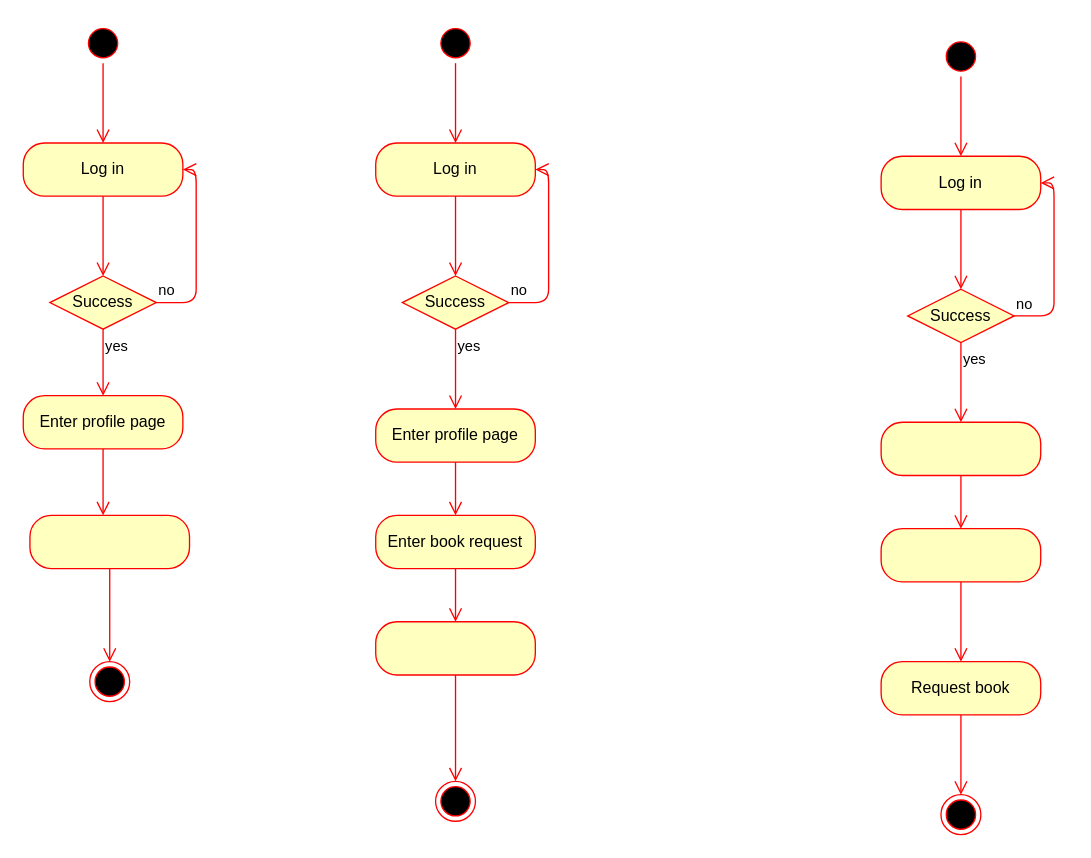
This 1091x858 diagram has some shape labels left out. The shapes that lost their labels are listed below. From the top down, each one's centre as x and y in pixels, then its label:
[960,448]: View books
[109,541]: Edit details
[960,554]: Select book
[454,647]: Send message
